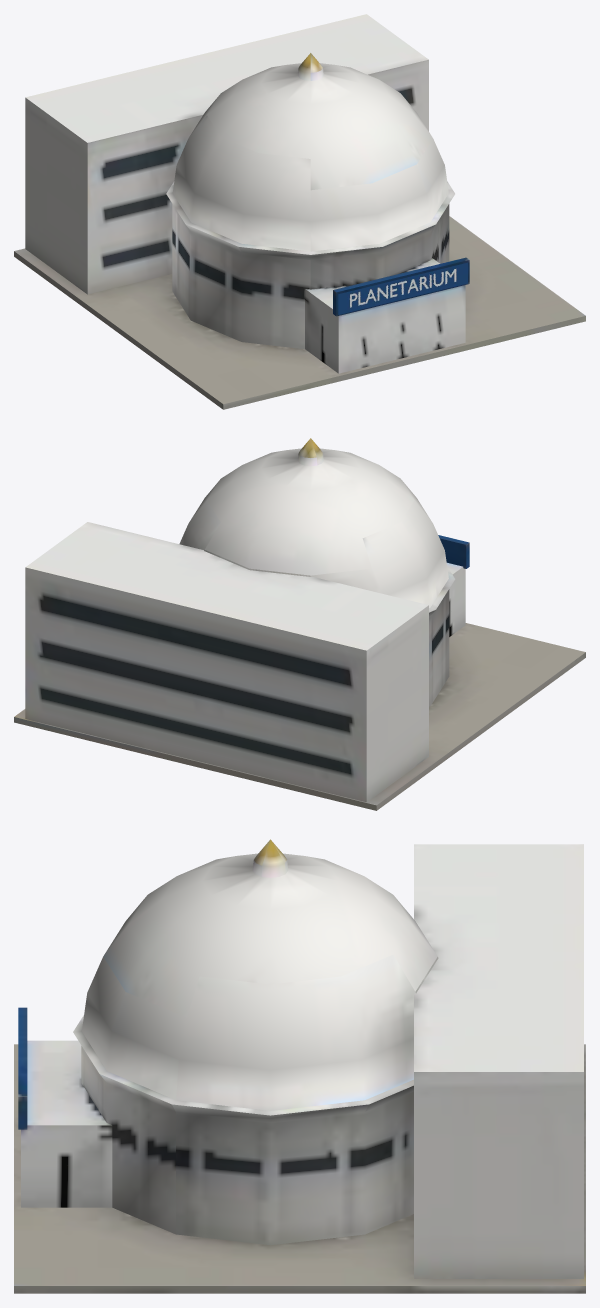
Rendered from birla_planetarium.glb.
3 renders of one model, top to bottom at view 1: azimuth 30°, elevation 25°; view 2: azimuth 150°, elevation 25°; view 3: azimuth 270°, elevation 25°, orthographic. The views are drawn at different scales.
Parts seen in each view (by area): view 1: birla_planetarium_body, name_board; view 2: birla_planetarium_body; view 3: birla_planetarium_body.
Part boxes in pixels (<box>): birla_planetarium_body: <box>14,14,585,409</box>; name_board: <box>338,262,467,314</box>; birla_planetarium_body: <box>14,438,585,810</box>; birla_planetarium_body: <box>14,839,585,1293</box>.
Bounding box in the file's own units: 58.2 × 37.45 × 58.2.
2 materials, 2 textured.
